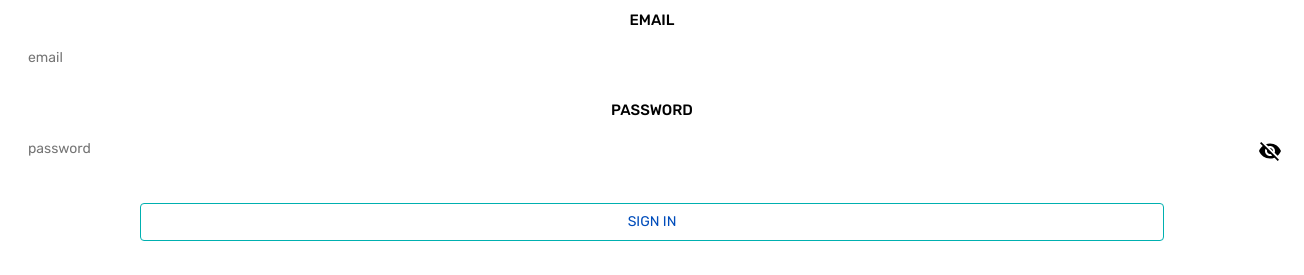
Test: SignInForm component › Fill SignInForm and submit with input error
In the field labelled "email": {"x": 652, "y": 58} [12, 39, 1292, 77], type "test@test.com"
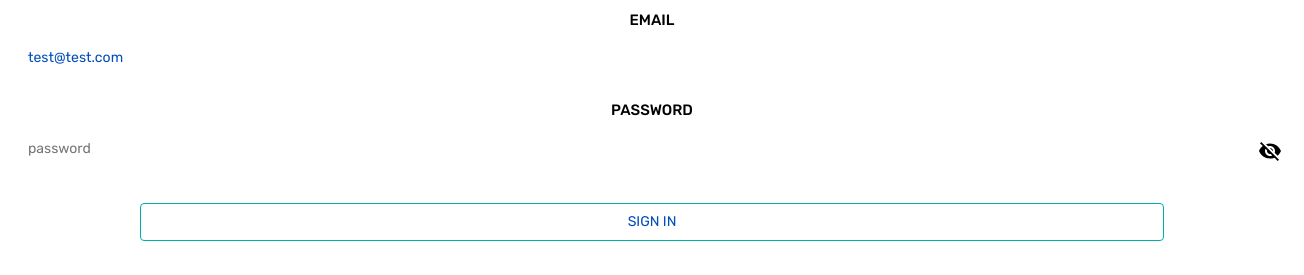
In the password field with test id "sign-in-input-password": {"x": 652, "y": 149} [12, 130, 1292, 168], type "test123"
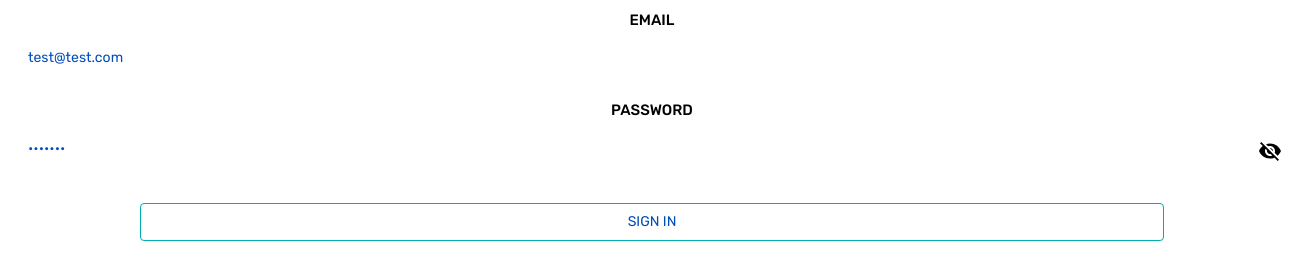
Click the button "sign in": {"x": 652, "y": 222} [140, 203, 1164, 241]
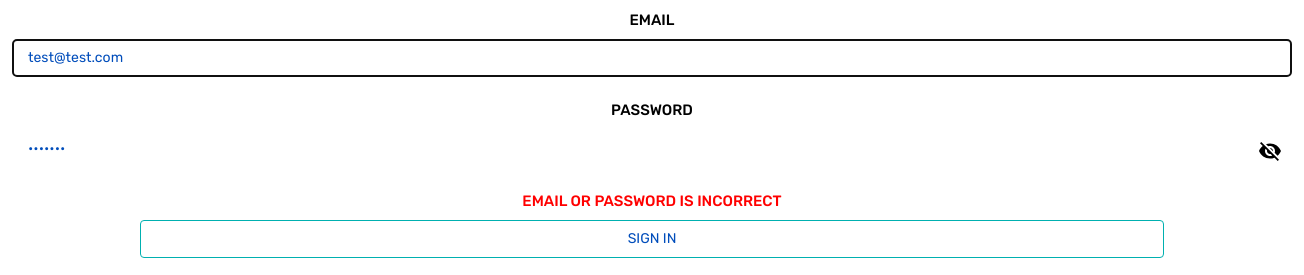
Expected: the text "email or password is incorrect" is shown, [522, 192, 782, 210]
